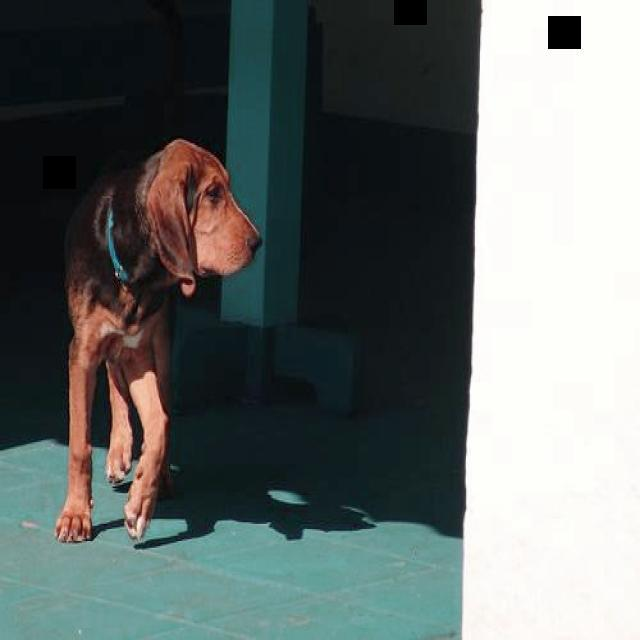adult_dog: (52, 133, 265, 546)
